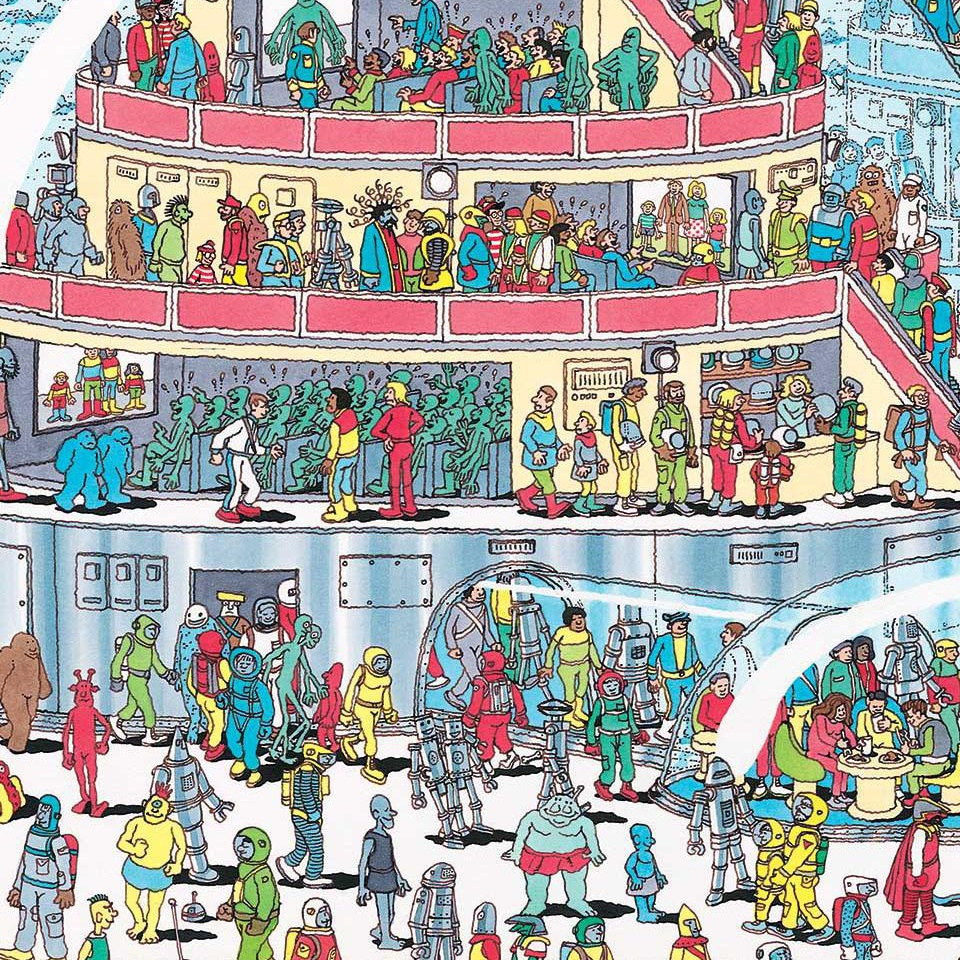waldo: (484, 196, 506, 227)
